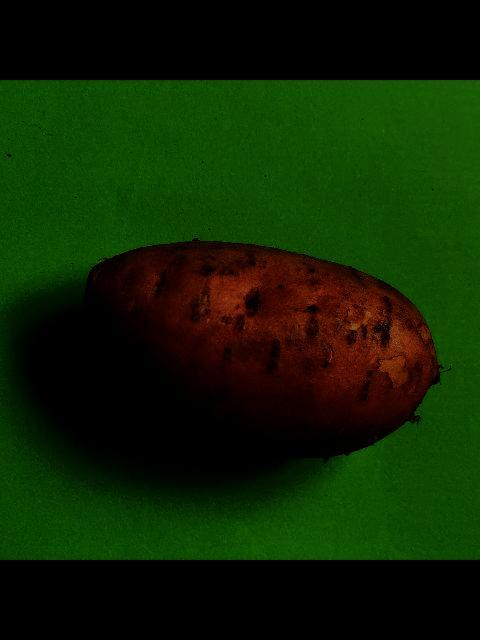sweetpotato: (79, 238, 444, 462)
